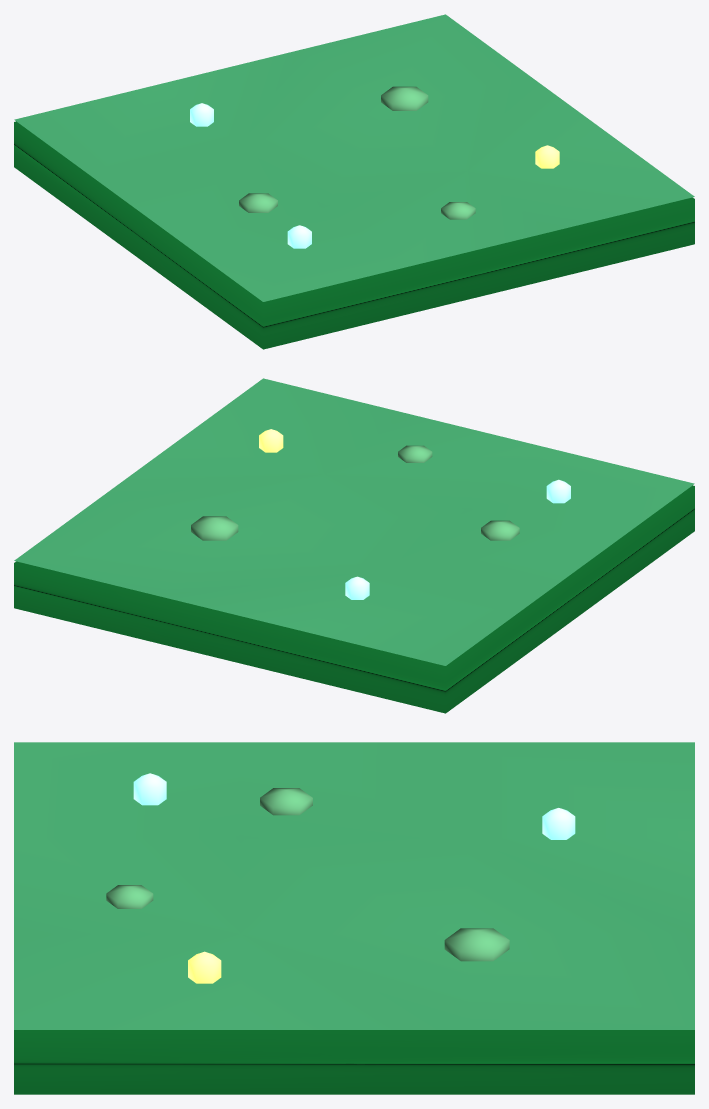
File: tile_grass_b.glb
The picture shows the model from 3 angles, top to bottom: view 1: azimuth 30°, elevation 25°; view 2: azimuth 150°, elevation 25°; view 3: azimuth 270°, elevation 25°; orthographic projection. The views are drawn at different scales.
Visible parts, largest first — view 1: Tile.001, Specks; view 2: Tile.001, Specks; view 3: Tile.001, Specks.
Part boxes in pixels (left/top/right/bottom): Tile.001: left=14, top=14, right=694, bottom=349; Specks: left=190, top=103, right=559, bottom=248; Tile.001: left=14, top=378, right=694, bottom=713; Specks: left=259, top=429, right=570, bottom=599; Tile.001: left=14, top=742, right=694, bottom=1094; Specks: left=133, top=773, right=575, bottom=983.
Bounding box in the file's own units: 1 × 0.148 × 1.
